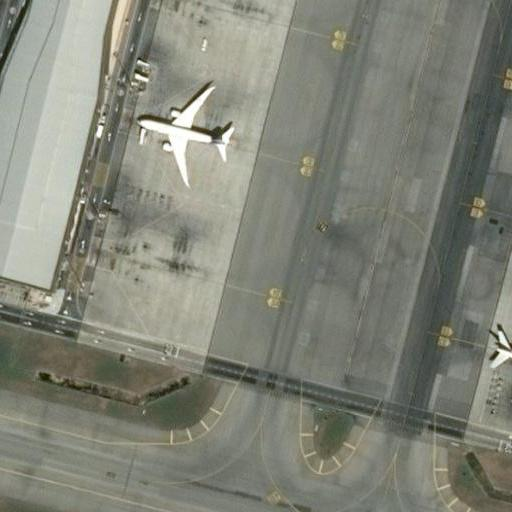Aircraft: (134, 78, 235, 186), (485, 297, 512, 414)
